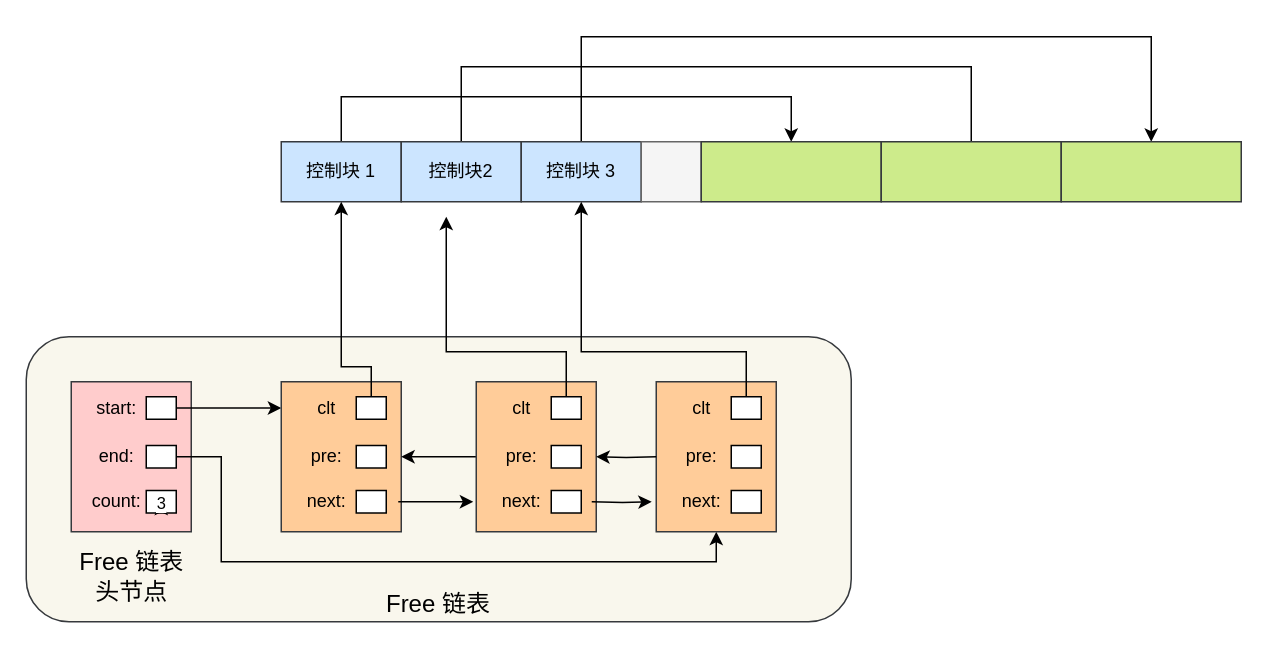
Some shapes in this 1268 by 648 pixel diagram are drawn without their labels. The centre of each missing label's shape, as x and y in pixels:
缓冲页2: point (970, 171)
缓存页 1: point (790, 171)
缓存页3: point (1150, 171)
